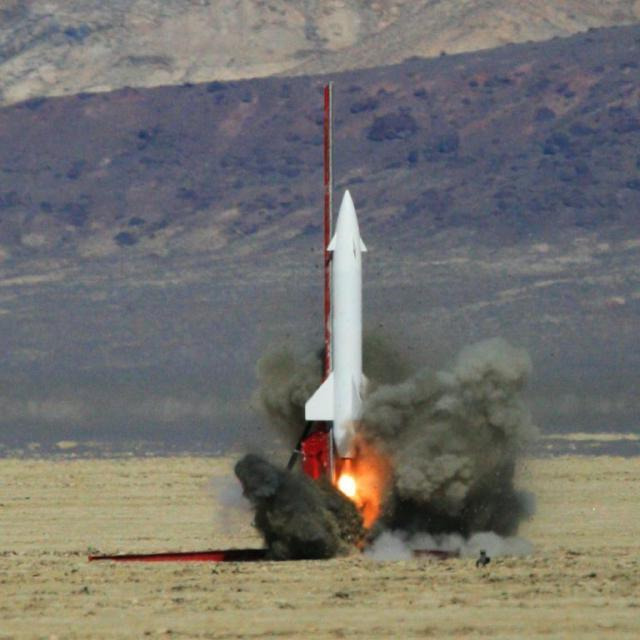missile: (323, 186, 375, 469)
